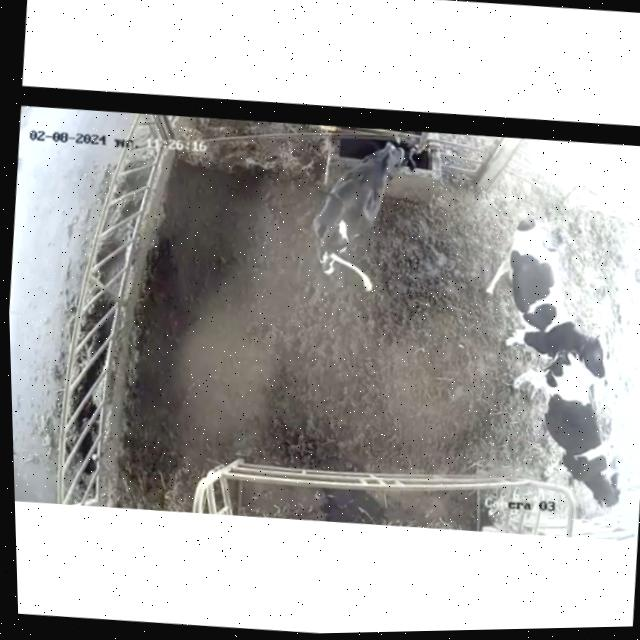propping: (539, 308, 631, 417)
